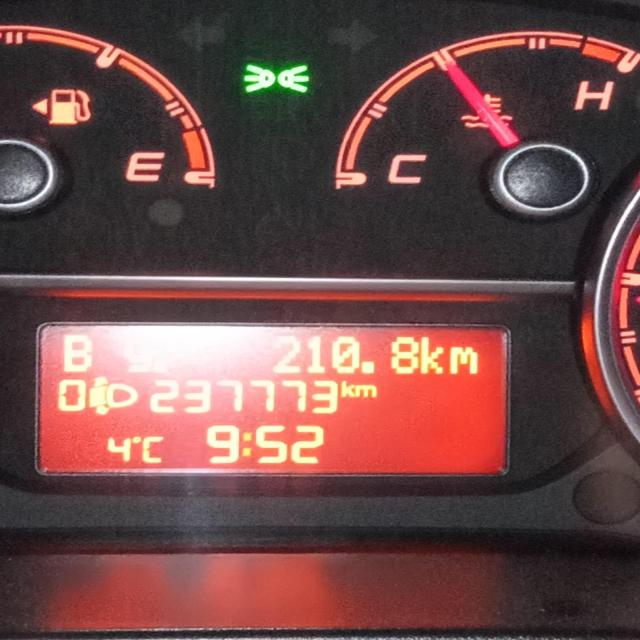odometer: (32, 321, 514, 479)
